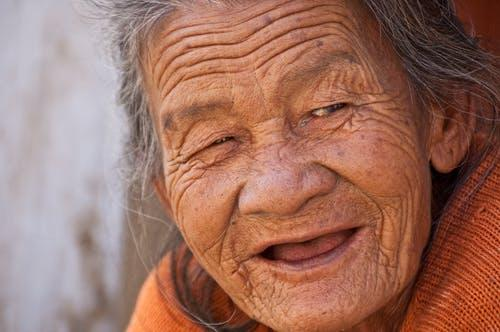Wrinkles: (187, 20, 358, 66), (151, 31, 233, 76), (245, 3, 346, 38), (254, 33, 342, 71), (213, 0, 291, 28), (157, 50, 192, 90), (353, 47, 376, 93), (366, 193, 386, 245), (384, 140, 418, 165), (185, 36, 252, 48), (182, 68, 247, 80), (378, 120, 415, 141), (177, 179, 195, 222), (173, 162, 198, 191), (161, 73, 186, 100), (327, 25, 357, 46), (163, 23, 209, 36), (161, 64, 183, 91), (369, 107, 400, 123), (397, 199, 404, 262), (406, 174, 414, 219), (219, 229, 228, 265), (184, 170, 206, 182), (402, 197, 408, 240), (363, 100, 392, 105), (167, 164, 179, 175)
